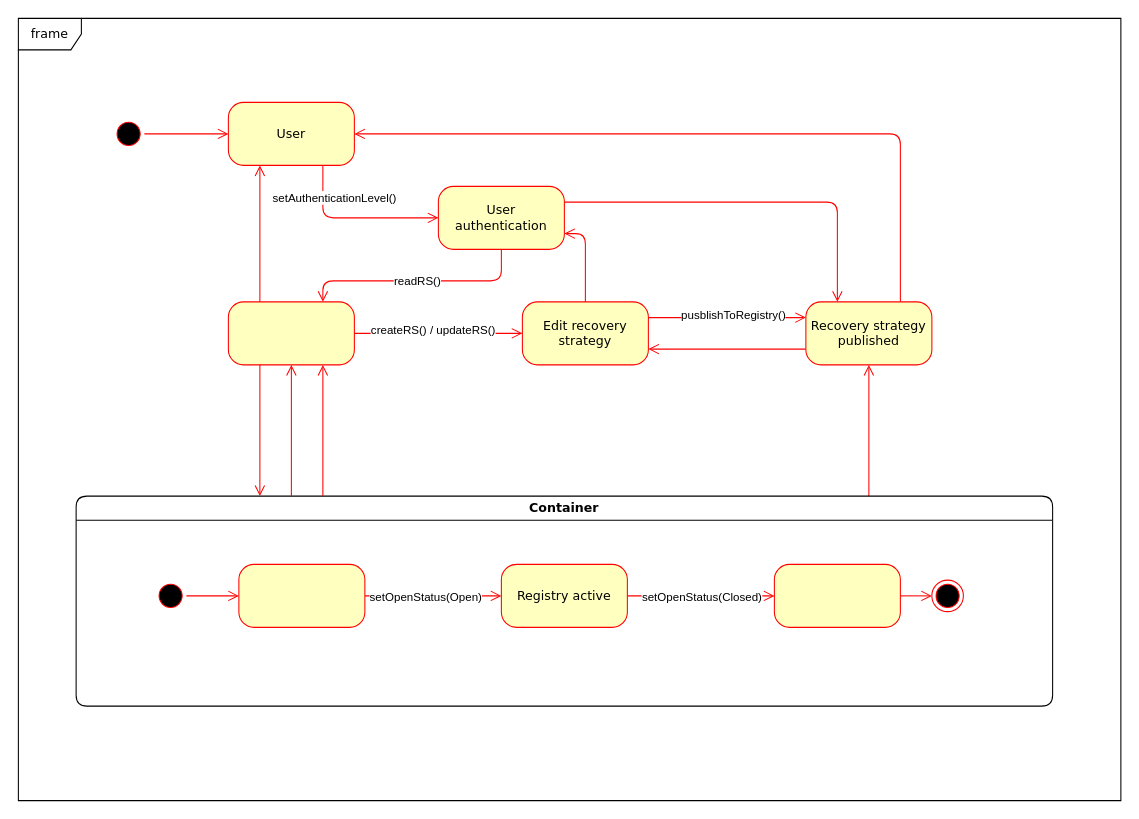
This 1139x819 diagram has some shape labels left out. Each missing label, with the box of its shape:
Registry Closed: (773, 563, 900, 627)
Registry inactive: (238, 563, 365, 627)
View recovery strategy: (227, 301, 354, 365)
